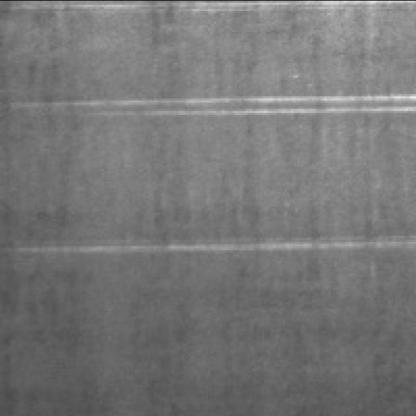scratches: (12, 233, 416, 262), (64, 94, 416, 122)
